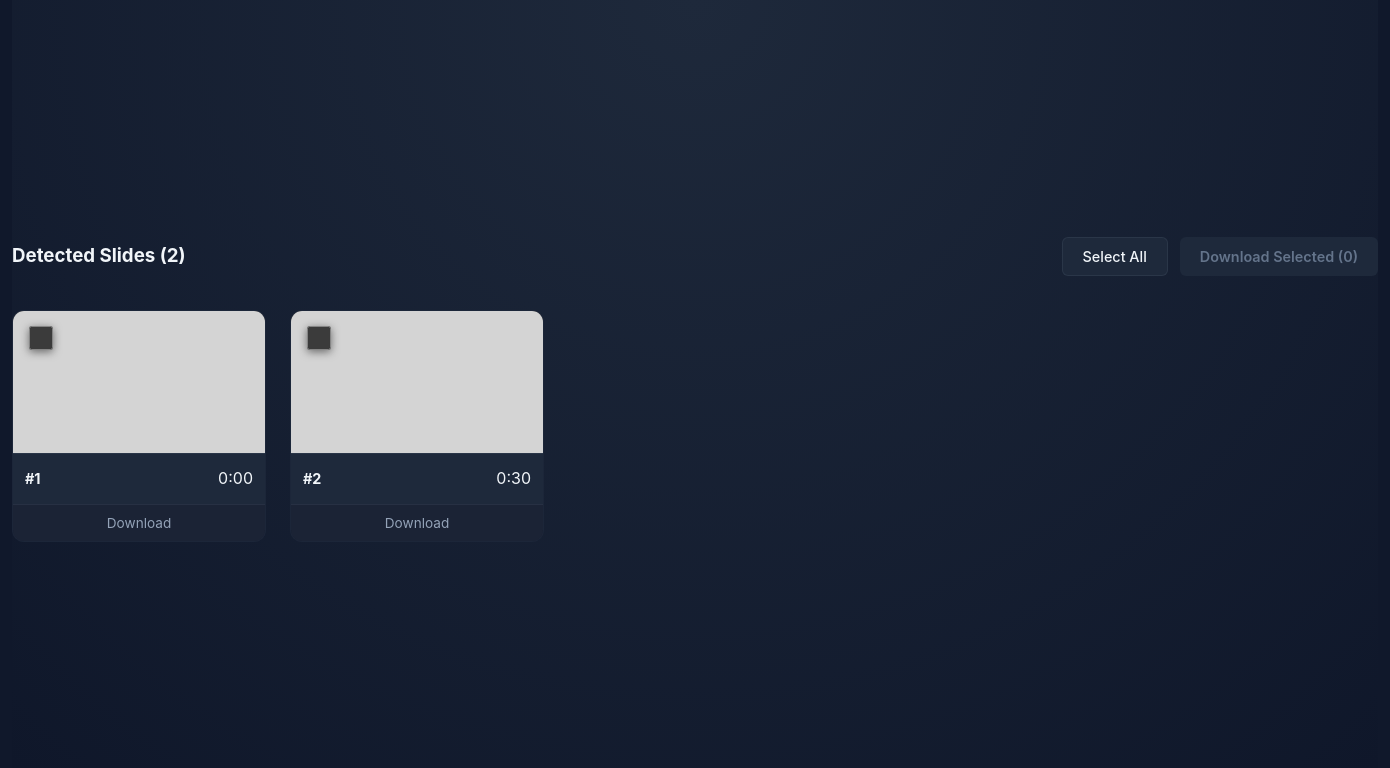
Test: SlideGallery › ダウンロード機能 › 全選択ボタンをクリックするとすべて選択される
What coordinates should you click on to do the following:
click the button with test id "select-toggle-button"
I would click on:
 (1115, 256)
Its box is left=1062, top=237, right=1168, bottom=276.
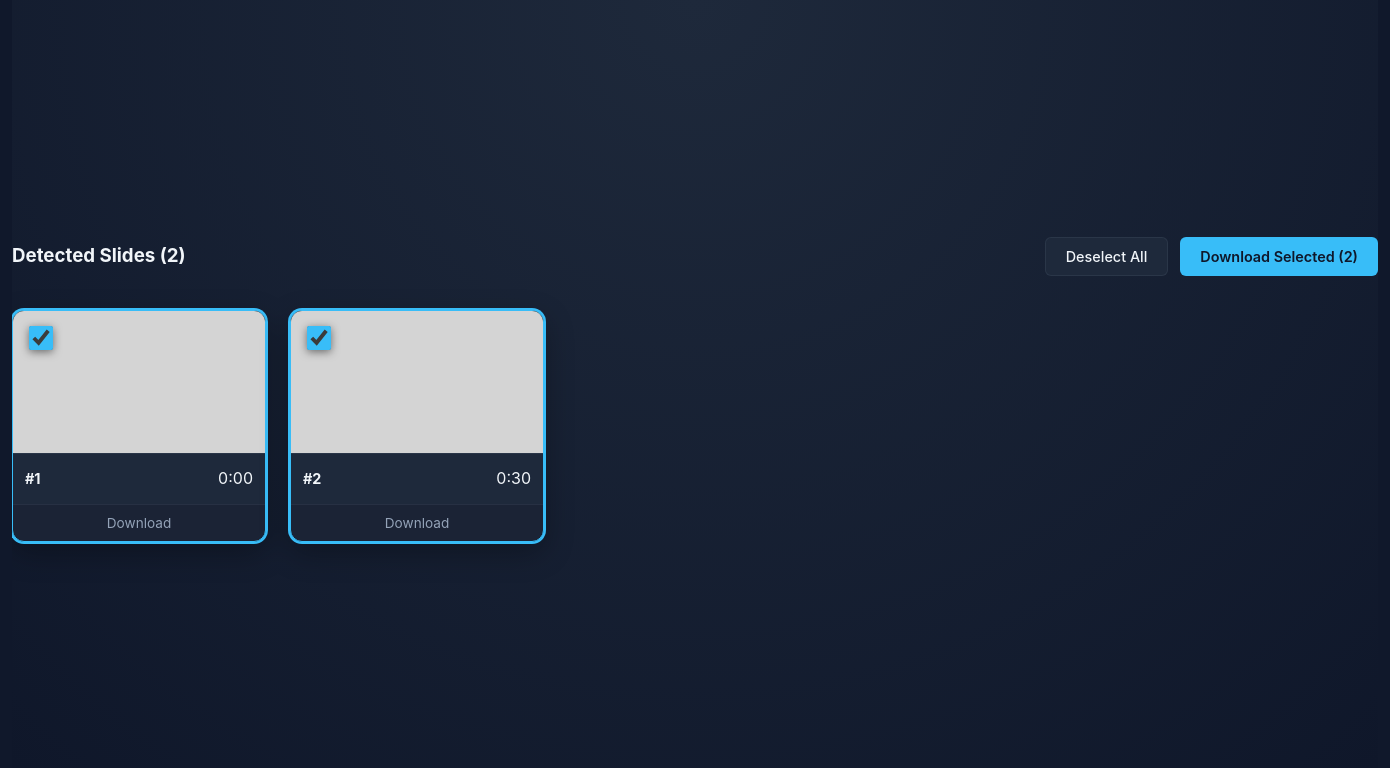
Expected: the button "Deselect All" is shown, left=1045, top=237, right=1168, bottom=276
